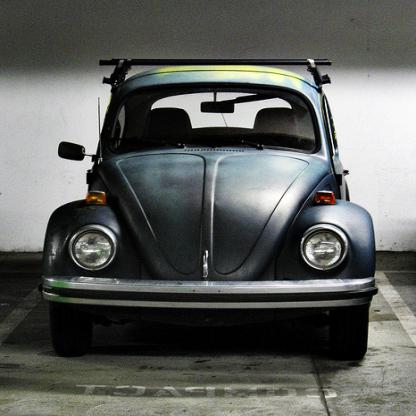car: (39, 58, 379, 362)
